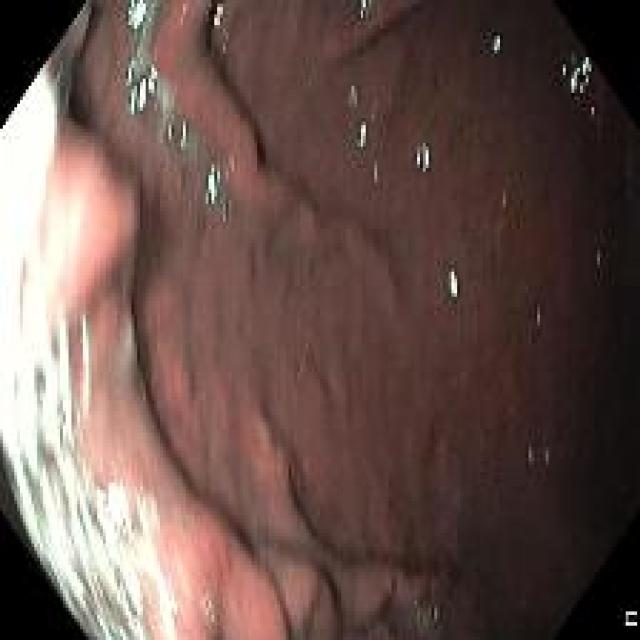blur: (1, 0, 474, 638)
color misalignment: (624, 611, 638, 626)
contrast: (562, 5, 636, 605)
saturation: (0, 62, 55, 578), (44, 465, 178, 640), (54, 320, 71, 607)
specularity: (124, 57, 156, 115), (560, 51, 593, 96), (78, 313, 92, 373), (203, 160, 221, 205), (126, 1, 148, 31), (415, 141, 430, 167), (211, 2, 224, 27), (447, 267, 457, 298), (166, 114, 175, 144), (349, 83, 358, 109), (357, 123, 366, 147), (179, 121, 186, 151), (359, 1, 370, 14), (492, 36, 500, 53)
